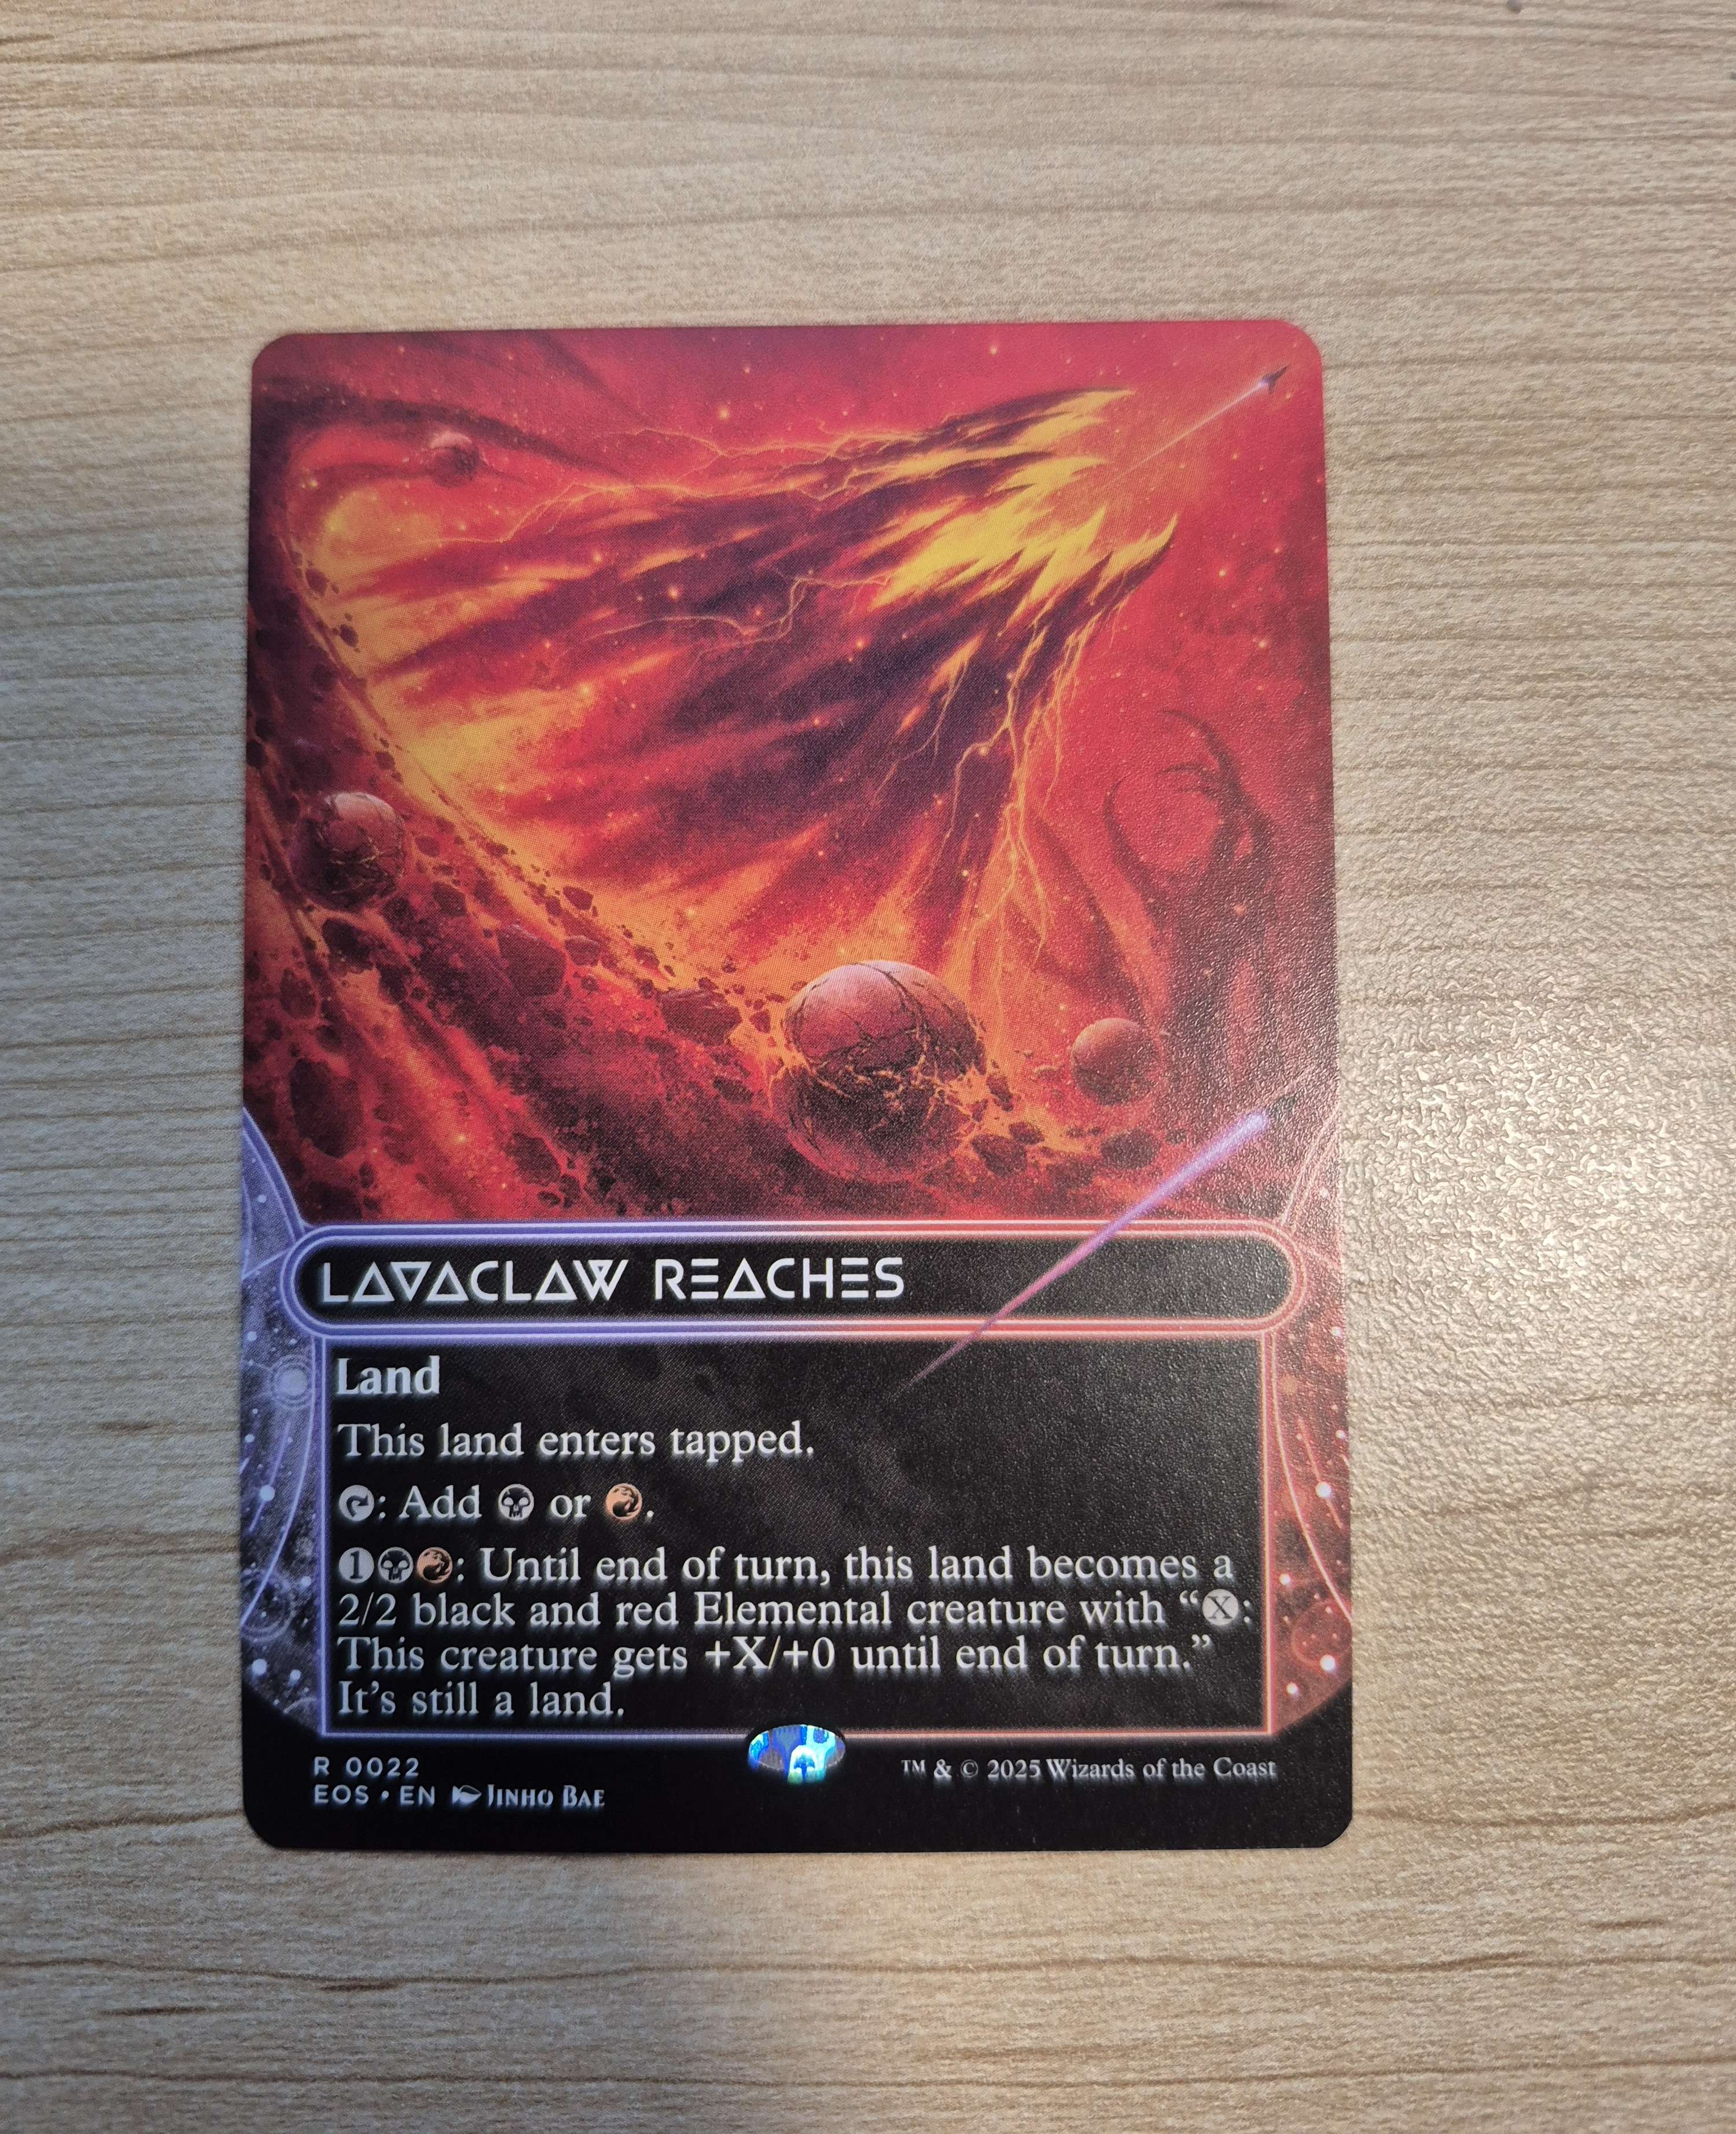mtg_card: (200, 298, 1376, 1886)
